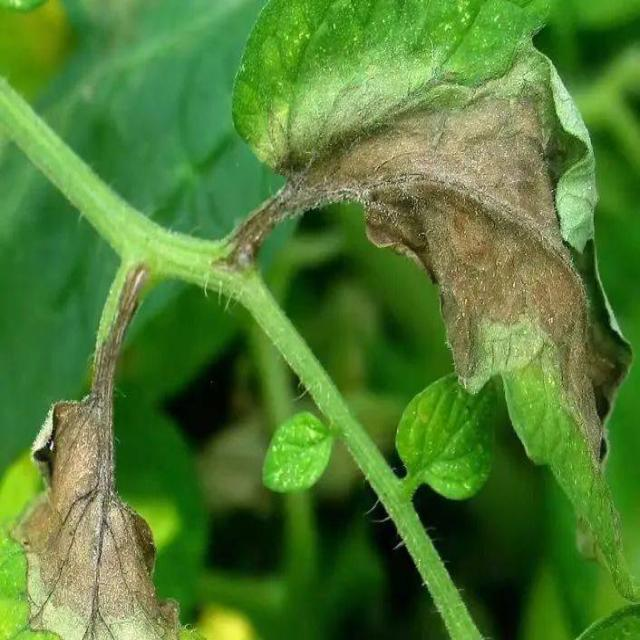Early_blight: (237, 47, 633, 471), (9, 339, 180, 640)
